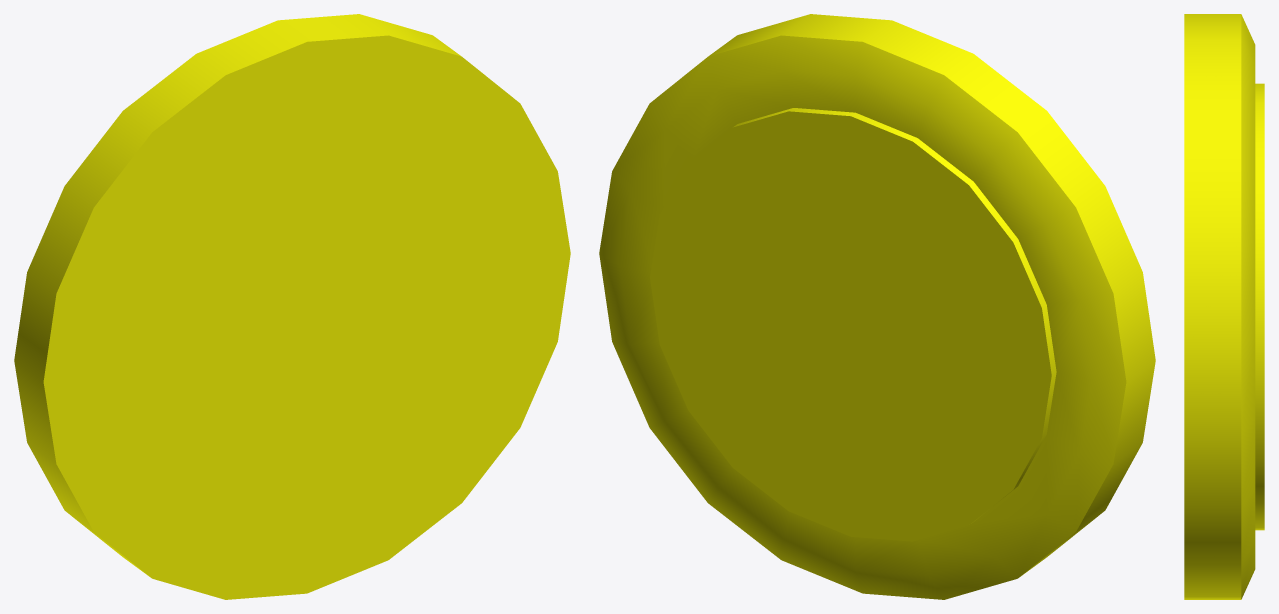
3 views of the same model, side by side, from view 1: azimuth 30°, elevation 25°; view 2: azimuth 150°, elevation 25°; view 3: azimuth 270°, elevation 25° (orthographic). The views are drawn at different scales.
Visible parts, largest first — view 1: bullet_portal; view 2: bullet_portal; view 3: bullet_portal.
Boxes of the visible parts, bbox=[...] form: bullet_portal: bbox=[14, 14, 570, 599]; bullet_portal: bbox=[599, 14, 1155, 599]; bullet_portal: bbox=[1184, 14, 1264, 599].
Bounding box in the file's own units: 0.00958 × 0.00958 × 0.0013.
1 material, 1 textured.
